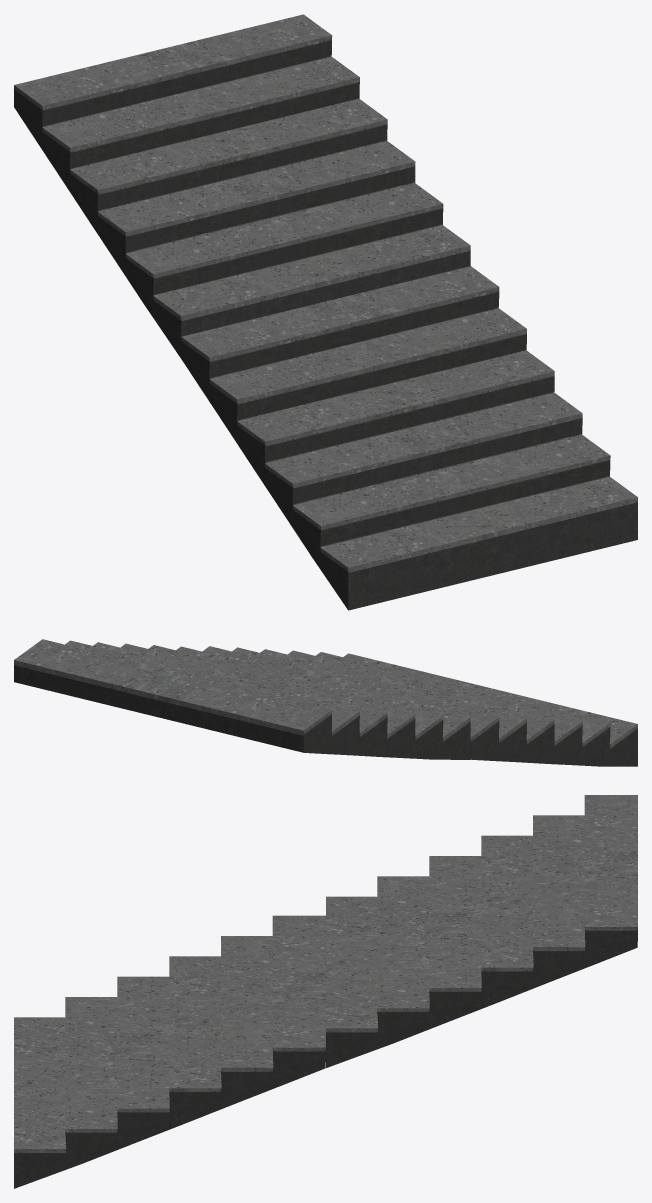
Rendered from SM_Stairs8m.FBX.
The picture shows the model from 3 angles, top to bottom: view 1: azimuth 30°, elevation 25°; view 2: azimuth 150°, elevation 25°; view 3: azimuth 270°, elevation 25°; orthographic projection. The views are drawn at different scales.
Visible parts, largest first — view 1: SM_Stairs8m; view 2: SM_Stairs8m; view 3: SM_Stairs8m.
Part boxes in pixels (box(x1,y1,x2,y2)): SM_Stairs8m: box(14, 14, 637, 610); SM_Stairs8m: box(14, 639, 637, 766); SM_Stairs8m: box(14, 795, 637, 1188).
Size of the model in its own units: 400 by 800 by 371.
